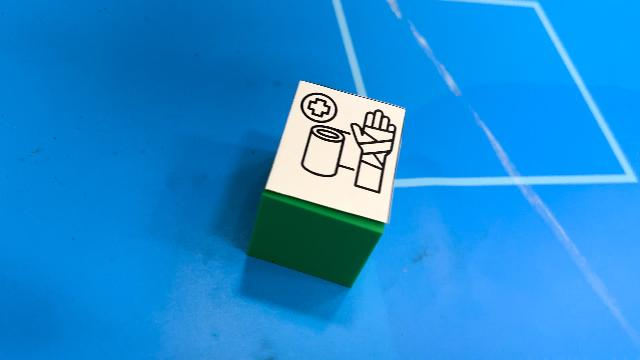bandage: (246, 80, 406, 288)
